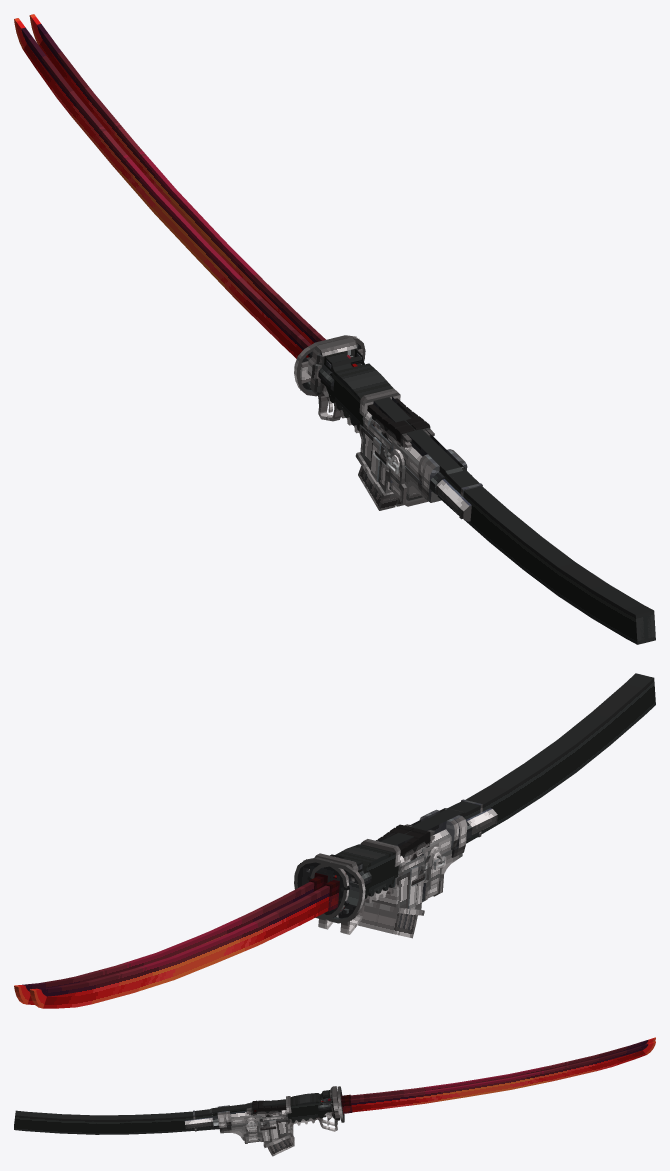
Rendered from hf_murasama.glb.
3 views of the same model, one above another, from view 1: azimuth 30°, elevation 25°; view 2: azimuth 150°, elevation 25°; view 3: azimuth 270°, elevation 25° (orthographic). The views are drawn at different scales.
Visible parts, largest first — view 1: main__Tool_L, off__Tool_L, main__Tool_R, off__Tool_R; view 2: main__Tool_L, off__Tool_L, main__Tool_R, off__Tool_R; view 3: off__Tool_R, main__Tool_R, off__Tool_L, main__Tool_L.
Part boxes in pixels (x1,y1,x2,y2): main__Tool_L: [307, 344, 652, 644]; off__Tool_L: [14, 18, 414, 450]; main__Tool_R: [29, 14, 434, 436]; off__Tool_R: [325, 337, 655, 643]; main__Tool_L: [338, 677, 655, 938]; off__Tool_L: [29, 828, 434, 1008]; main__Tool_R: [14, 824, 414, 1004]; off__Tool_R: [308, 673, 649, 929]; off__Tool_R: [14, 1088, 340, 1156]; main__Tool_R: [246, 1041, 655, 1122]; off__Tool_L: [246, 1037, 655, 1118]; main__Tool_L: [14, 1086, 337, 1141].
Size of the model in its own units: 0.2569 by 0.7829 by 4.05.
1 material, 1 textured.
